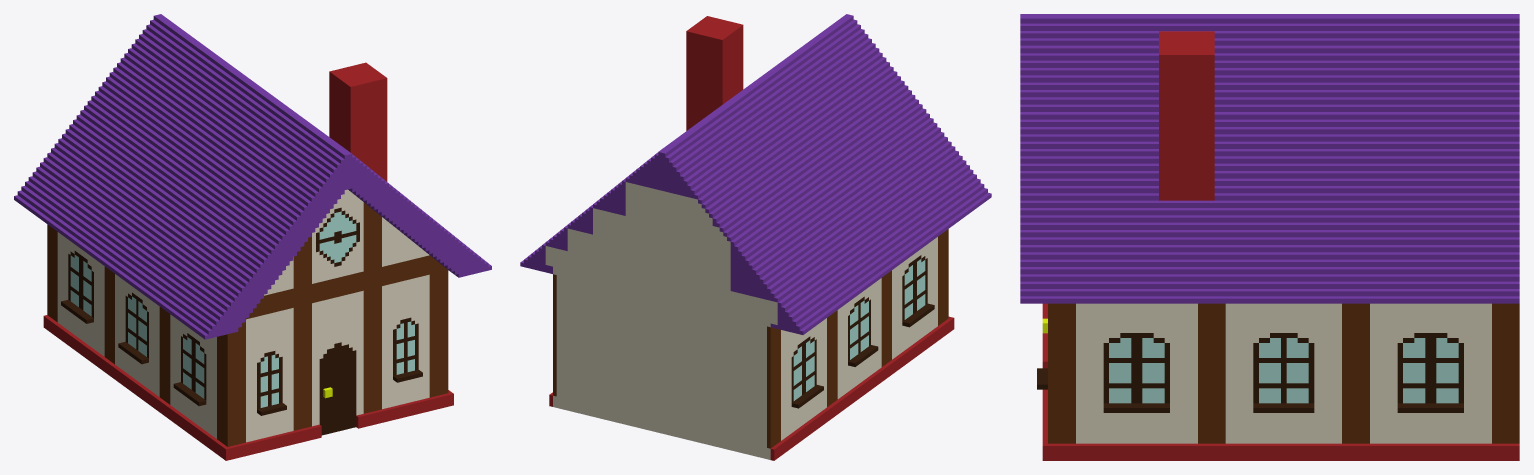
File: house_rhombus.violet.obj
3 views of the same model, side by side, from view 1: azimuth 30°, elevation 25°; view 2: azimuth 150°, elevation 25°; view 3: azimuth 270°, elevation 25° (orthographic). The views are drawn at different scales.
Bounding box in the file's own units: 7.8 × 7.8 × 9.
1 material, 1 textured.
